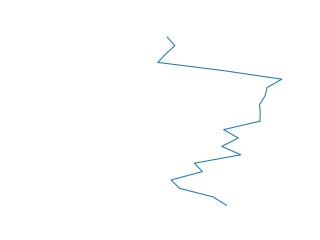floodPlain: (156, 35, 283, 207)
